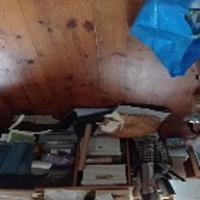asleep: (95, 112, 160, 138)
